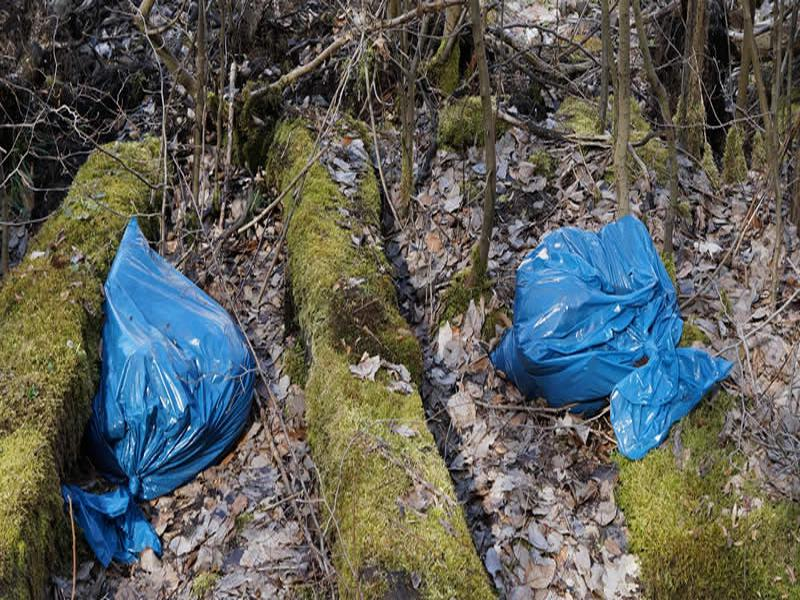plastic: (59, 204, 265, 574), (484, 214, 741, 466)
